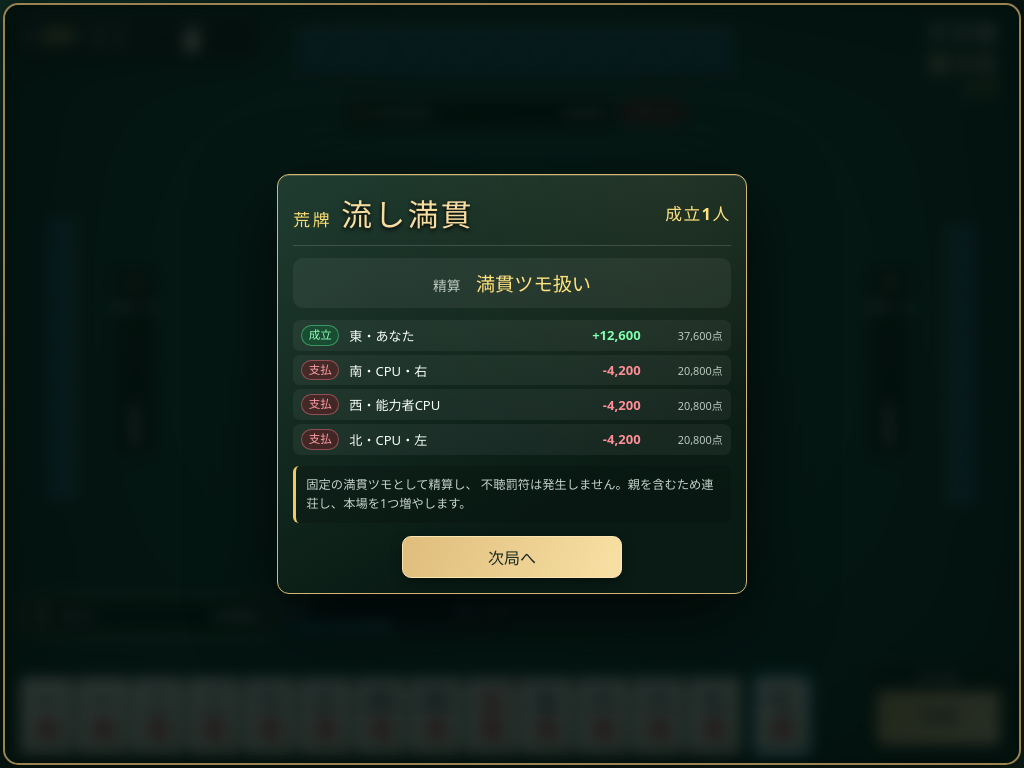
Test: 流し満貫の結果画面 › 次局へ進むと結果画面を閉じて親が連荘する
Click the button "次局へ" at (512, 557), box x1=402 y1=536 x2=622 y2=578
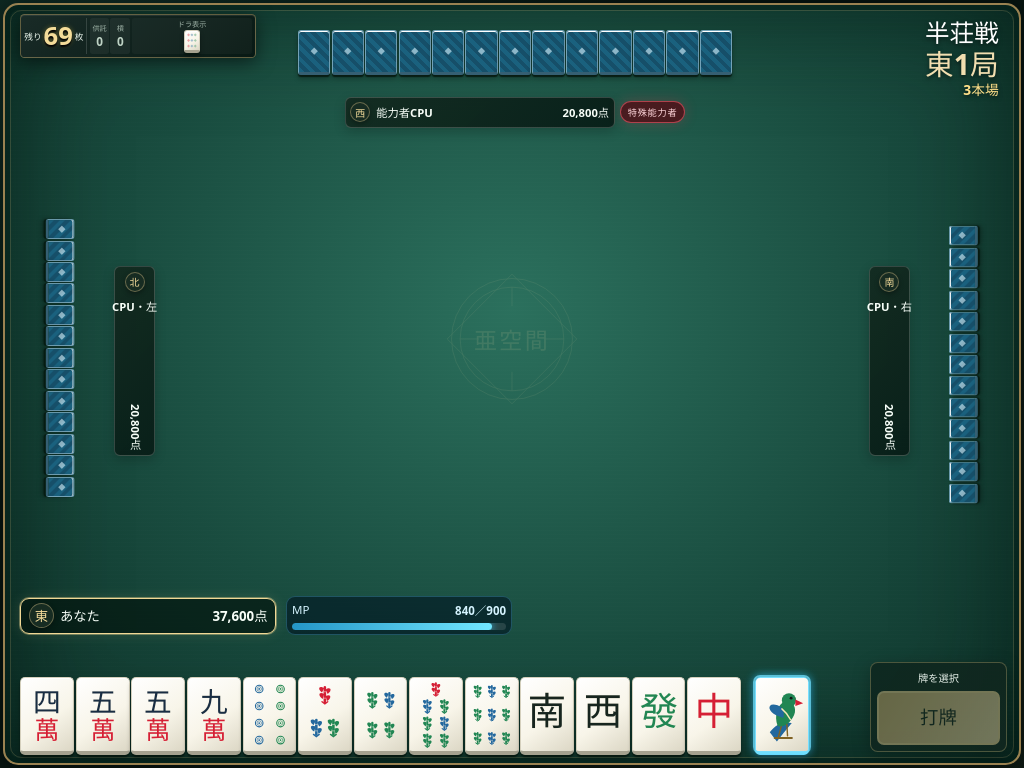
Expected: the dialog "流し満貫結果" is gone
Expected: the text "3本場" is shown, x1=963 y1=83 x2=999 y2=98
